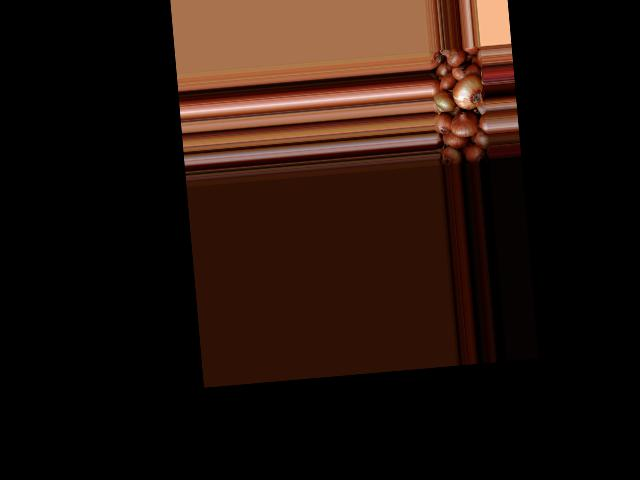onion: (442, 146, 462, 166)
